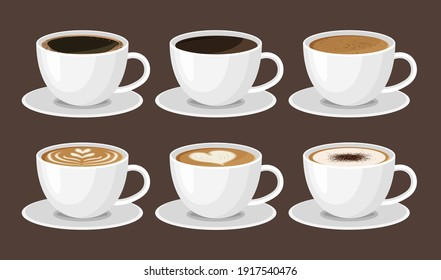cup: (19, 27, 153, 119), (168, 28, 287, 108), (169, 140, 287, 220), (301, 28, 420, 107), (34, 140, 153, 219), (302, 141, 420, 219)
